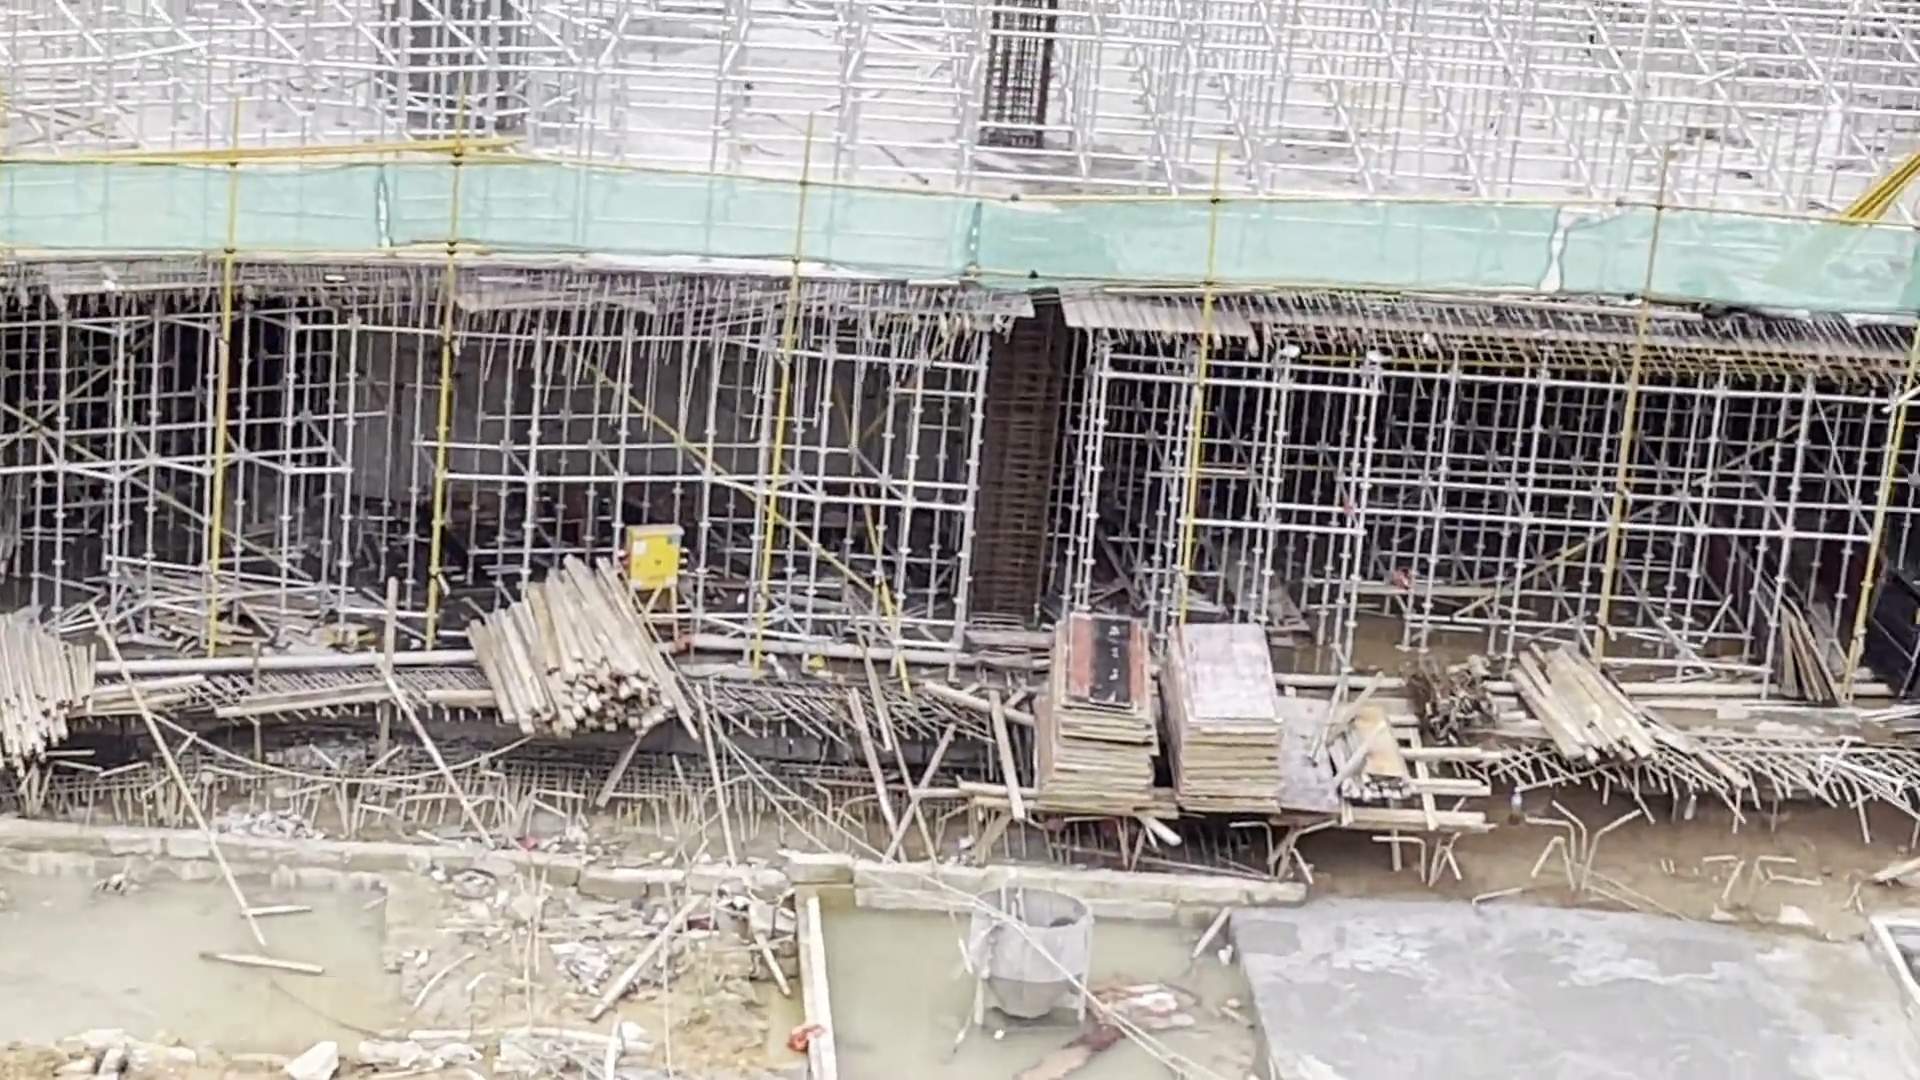board: (1035, 600, 1294, 808)
ebox: (618, 524, 684, 597)
wood: (462, 567, 696, 736), (1506, 636, 1677, 781)
